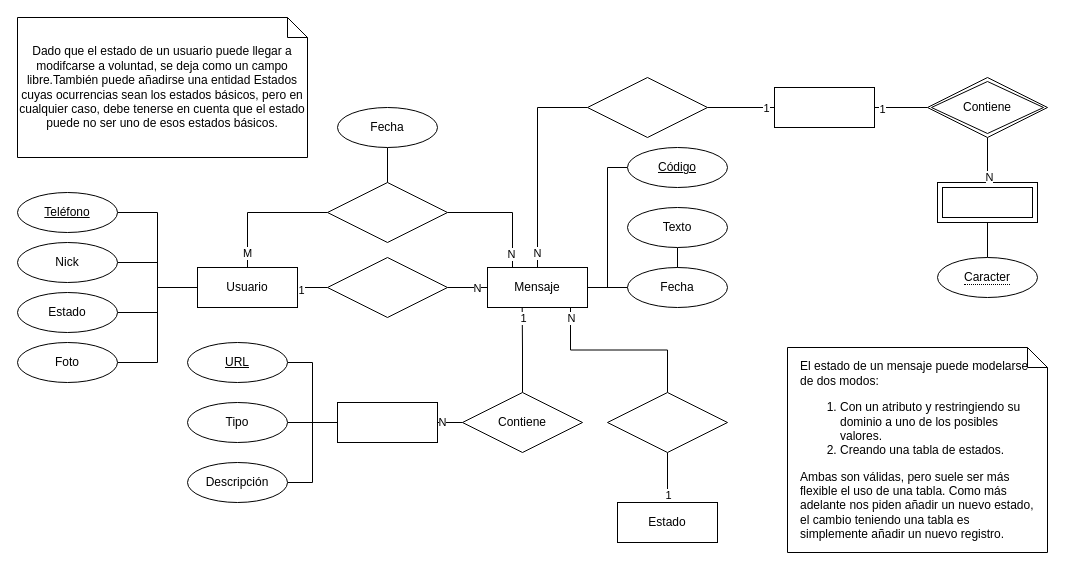
The diagram is 1065 pixels wide and 570 high, and some of its shapes have lost their labels. The centre of each missing label's shape, as x and y in pixels:
Caracteres: the point at 987,202
Envía: the point at 387,287
Escrito en: the point at 647,107
Está en: the point at 667,422
Idioma: the point at 824,107
Multimedia: the point at 387,422
Recibe: the point at 387,212
